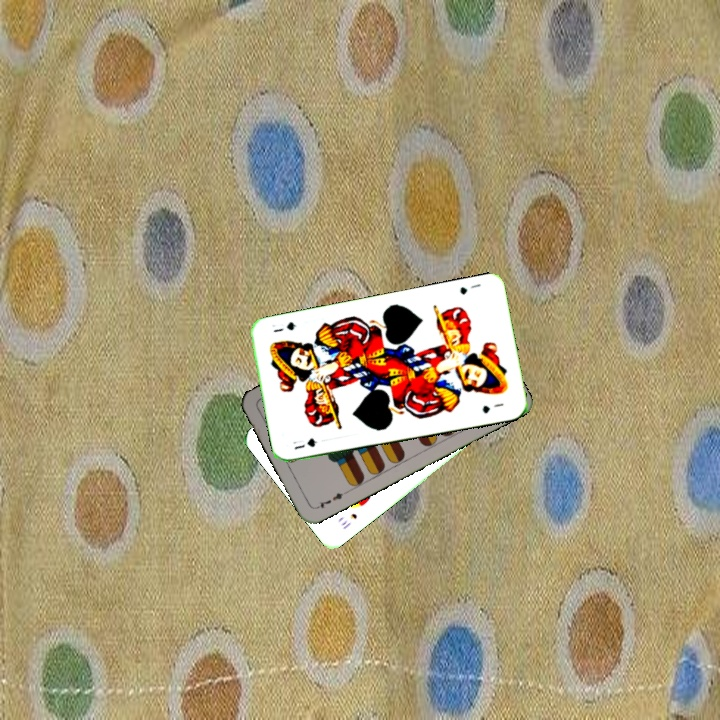E7: (313, 487, 350, 512)
GU: (290, 434, 319, 452), (456, 280, 484, 297)
S10: (337, 509, 360, 532)
